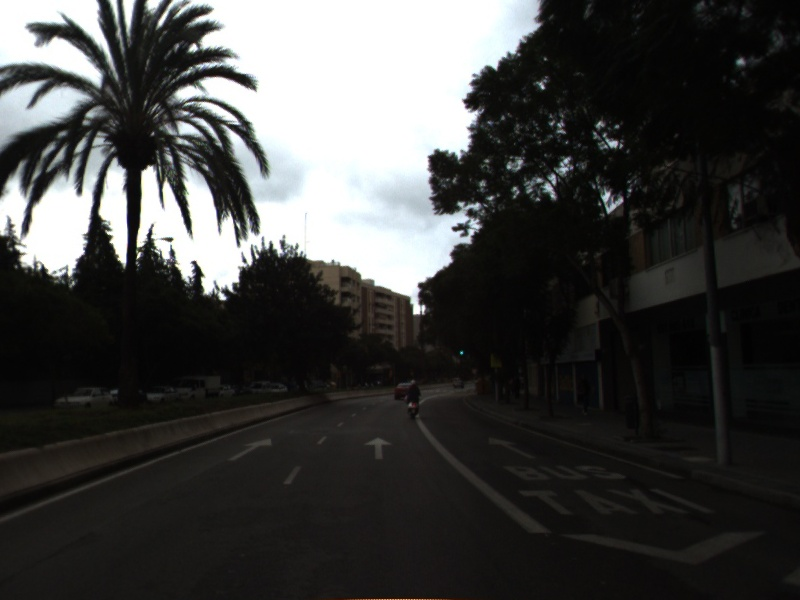STRAIGHT: (225, 436, 273, 463), (487, 435, 538, 460), (362, 435, 394, 461)
